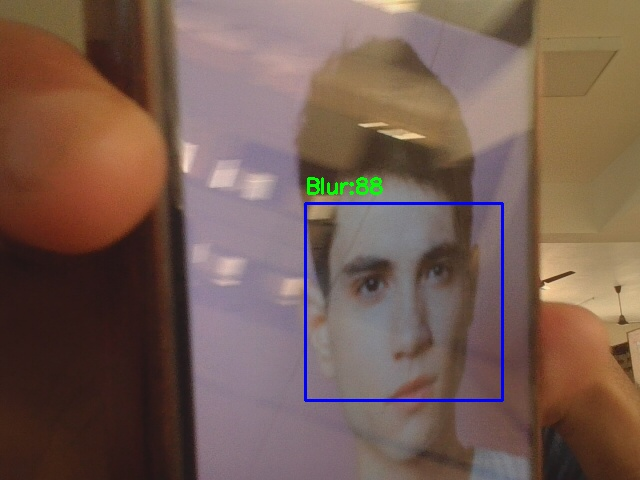fake: (305, 203, 502, 400)
